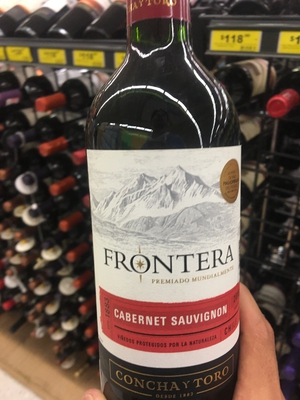frontera cabernet sauvignon: (92, 15, 252, 400)
